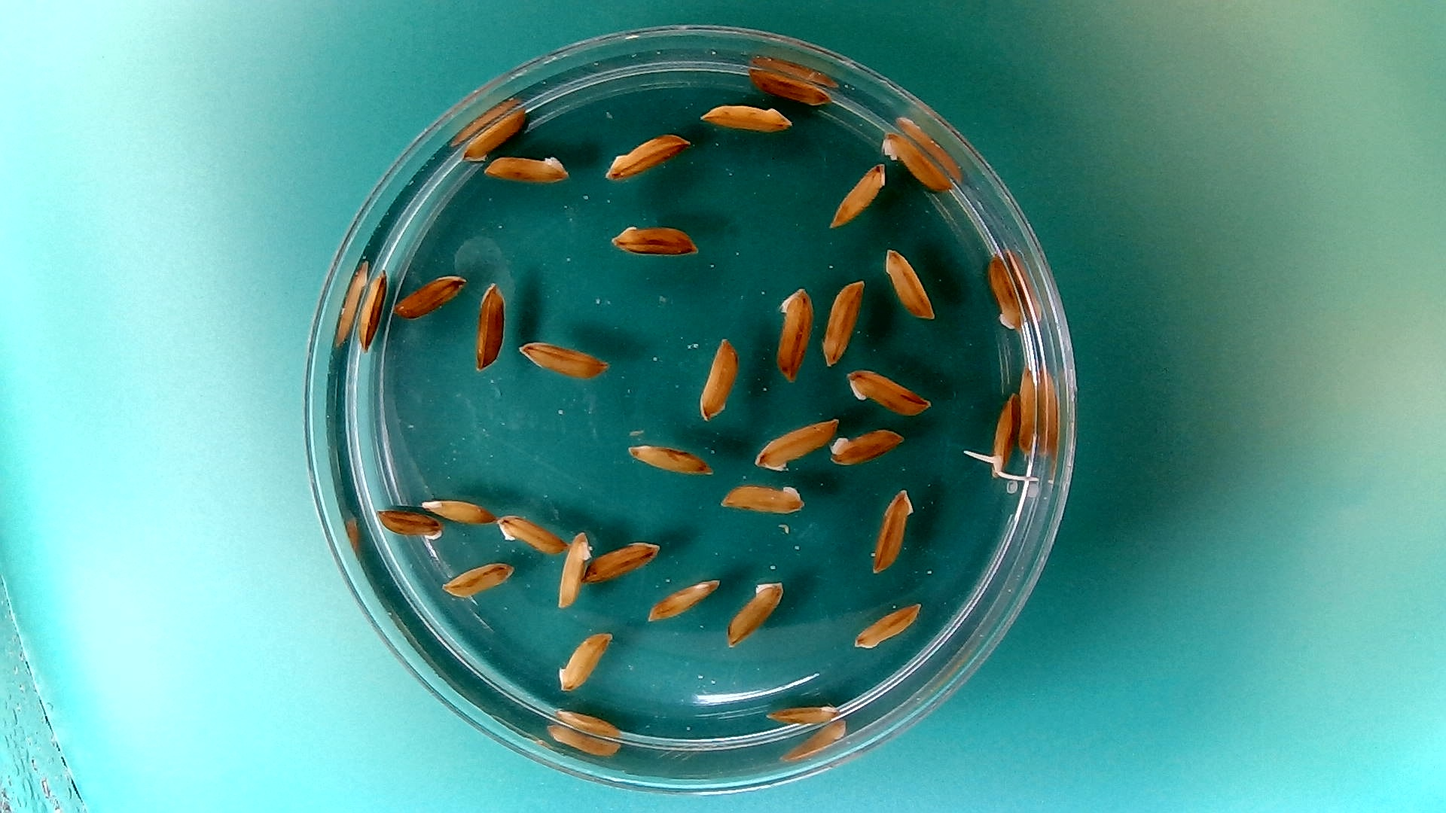no: (751, 413, 839, 472), (877, 126, 954, 192), (840, 364, 932, 418), (602, 129, 691, 182), (722, 577, 786, 649), (827, 159, 890, 231), (867, 486, 916, 576), (458, 102, 529, 164), (772, 285, 816, 383), (820, 274, 866, 367), (514, 337, 609, 381), (881, 244, 935, 321), (554, 627, 615, 695), (695, 333, 741, 423), (606, 224, 705, 265), (644, 574, 722, 624), (583, 537, 662, 586), (743, 64, 834, 106), (624, 436, 717, 477), (393, 271, 468, 320), (852, 599, 924, 650), (713, 477, 807, 516), (440, 556, 515, 604), (826, 423, 907, 466), (481, 148, 572, 186), (472, 278, 508, 373), (495, 510, 569, 556), (697, 99, 794, 134), (554, 528, 593, 613), (985, 248, 1024, 333), (373, 503, 447, 547), (353, 266, 390, 352), (416, 493, 497, 526), (551, 705, 624, 738), (763, 699, 840, 730), (1017, 362, 1039, 460)
yes: (987, 394, 1023, 486)
